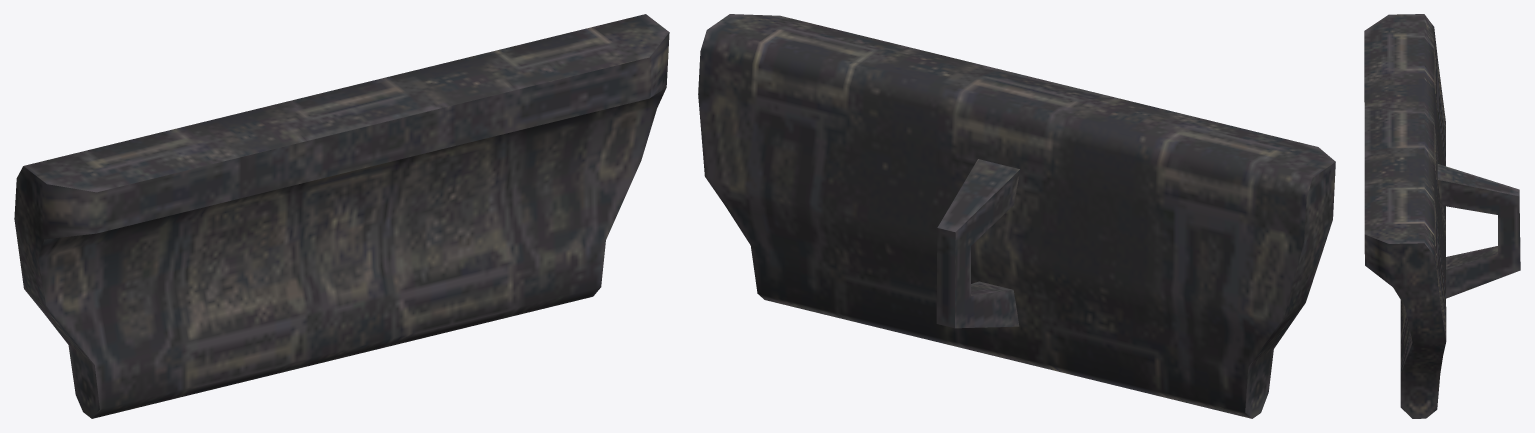
The model's file is VK2001DB_track.glb.
The picture shows the model from 3 angles, left to right: view 1: azimuth 30°, elevation 25°; view 2: azimuth 150°, elevation 25°; view 3: azimuth 270°, elevation 25°; orthographic projection. The views are drawn at different scales.
Parts seen in each view (by area): view 1: set_0_group_0; view 2: set_0_group_0; view 3: set_0_group_0.
Boxes of the visible parts, x1=… form: set_0_group_0: x1=14, y1=14, x2=669, y2=418; set_0_group_0: x1=698, y1=14, x2=1335, y2=418; set_0_group_0: x1=1364, y1=14, x2=1520, y2=418.
Size of the model in its own units: 0.4407 by 0.1773 by 0.1267.
Materials: 1 (1 with a texture image).
